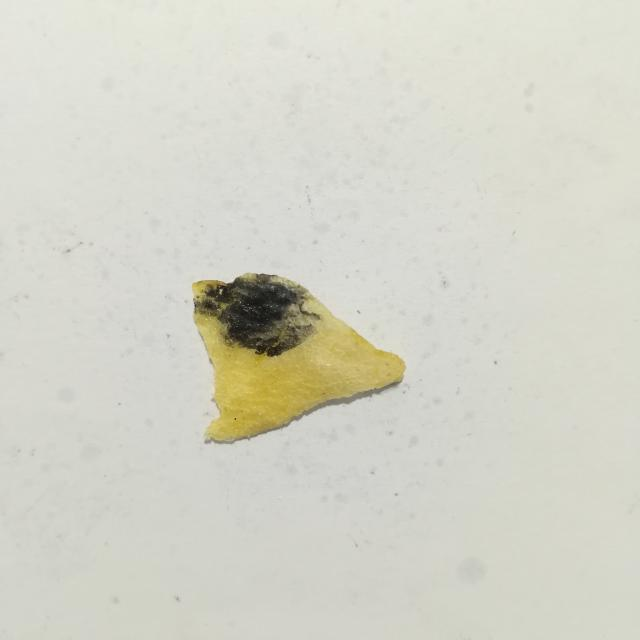chip: (193, 273, 405, 441)
damaged: (194, 273, 321, 357)
